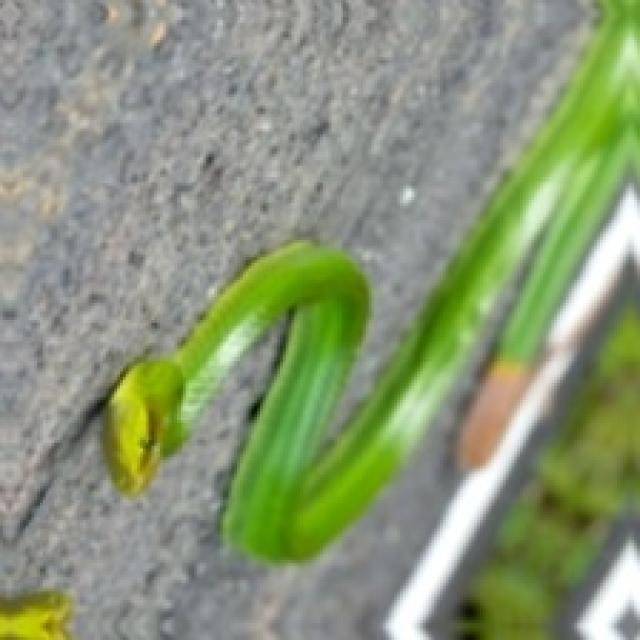red-tailed green ratsnake: (103, 0, 637, 560)
